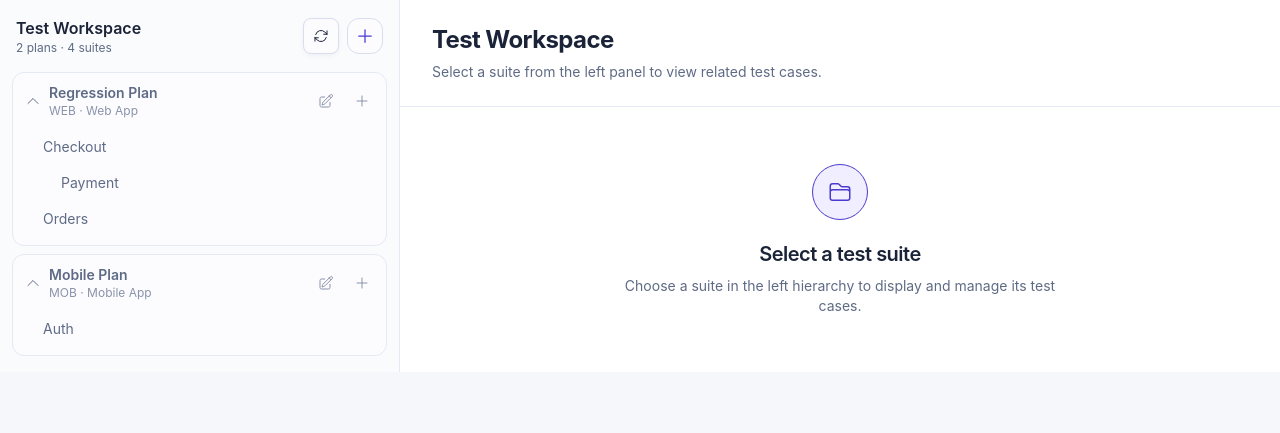
Scenario: TestManagementWorkspace › opens inline suite input from left panel without opening suite drawer
Expected: the text "Regression Plan" is shown, [49,84,158,101]
What coordinates should you click on to do the following:
click the button named "Create suite in Regression Plan"
I would click on:
 (362, 101)
Its box is [346,83,378,119].
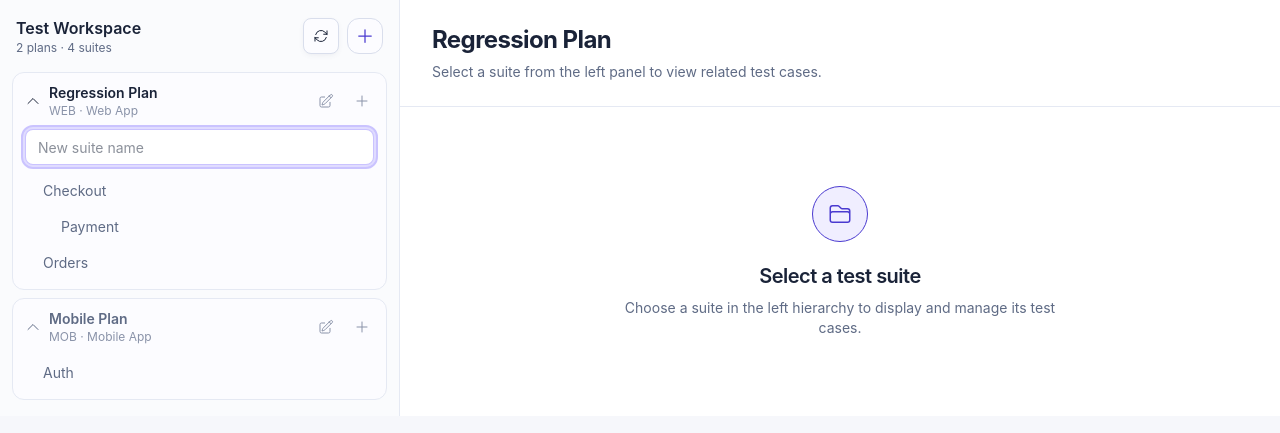
Result: the field named "New suite name for Regression Plan" is shown at [25,129,374,165]
